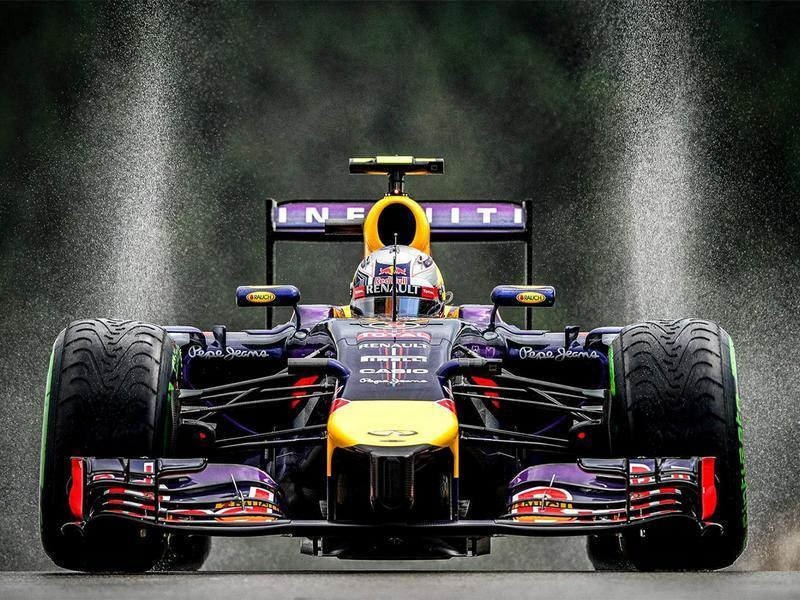f1: (41, 135, 765, 578)
